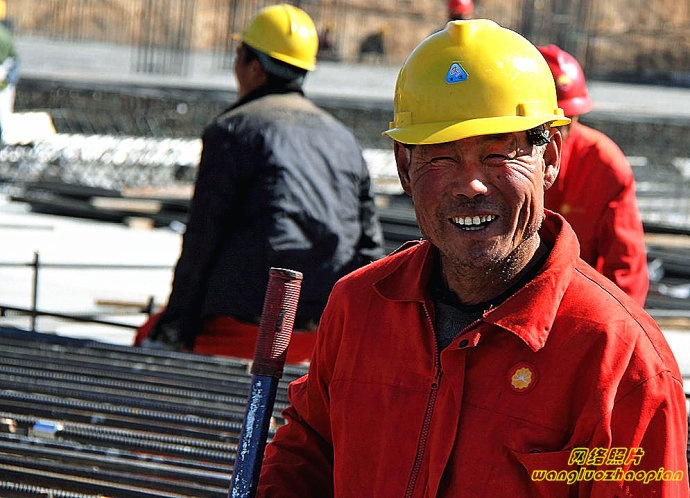red: (534, 40, 590, 144), (443, 1, 474, 25)
yellow: (380, 17, 562, 280), (219, 4, 322, 97)
